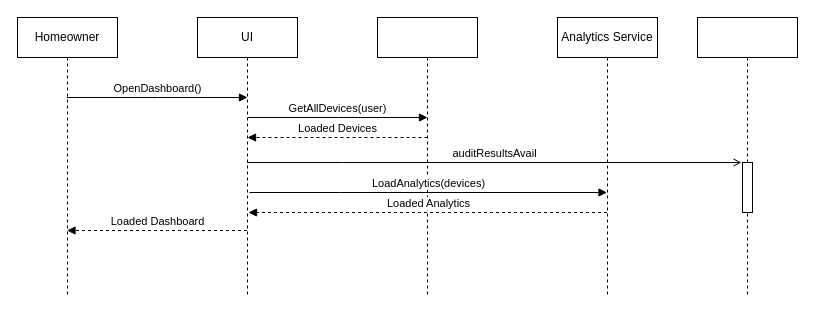
This 815x315 diagram has some shape labels left out. The shapes that lost their labels are listed below. From the top down, each one's box as (x1, y1, x2, y2) in pixels, then its label:
(376, 16, 478, 298): Registration Service
(696, 16, 798, 298): Scheduling Service
